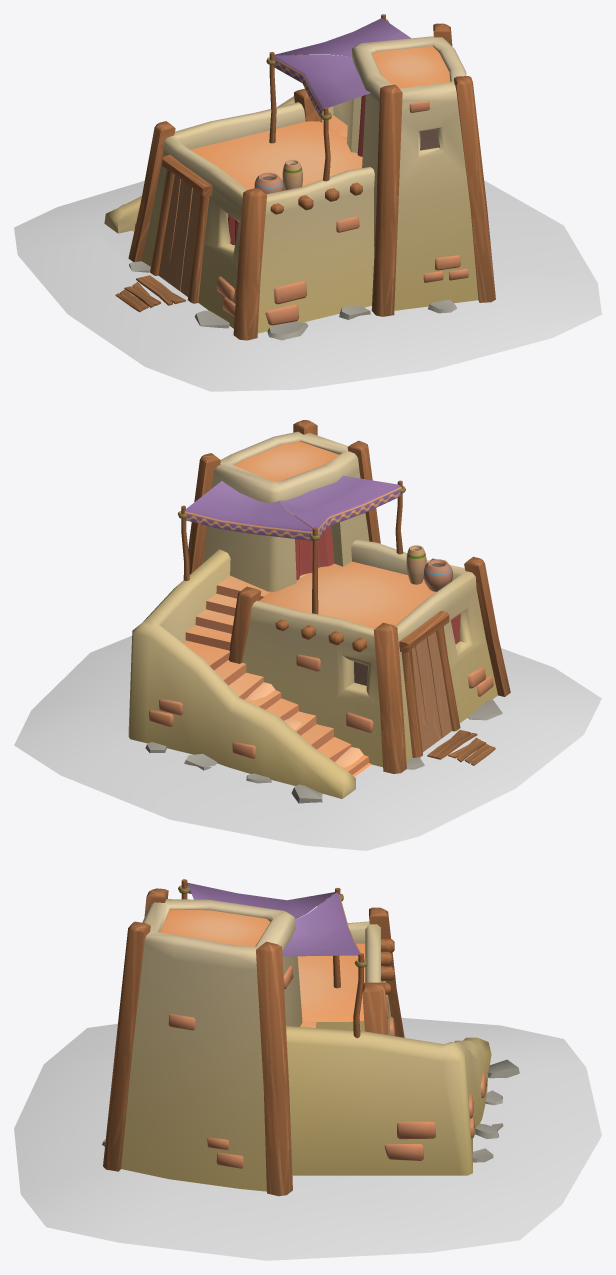
The model's file is DesertHouse-01.fbx.
The picture shows the model from 3 angles, top to bottom: view 1: azimuth 30°, elevation 25°; view 2: azimuth 150°, elevation 25°; view 3: azimuth 270°, elevation 25°; orthographic projection. The views are drawn at different scales.
Parts seen in each view (by area): view 1: DesertHouse-01; view 2: DesertHouse-01; view 3: DesertHouse-01.
Part boxes in pixels (<box>): DesertHouse-01: <box>14,14,601,391</box>; DesertHouse-01: <box>14,420,601,850</box>; DesertHouse-01: <box>14,879,601,1260</box>.
Bounding box in the file's own units: 3.99 × 1.88 × 4.
